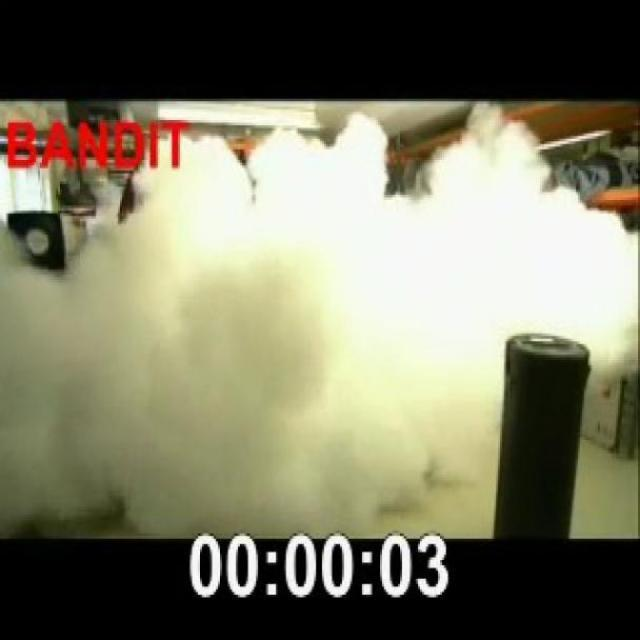Smoke: (15, 104, 632, 513)
